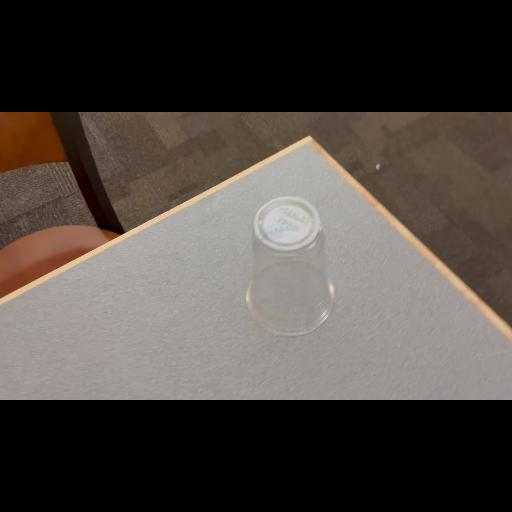lp_plastic_cup: (246, 196, 332, 336)
